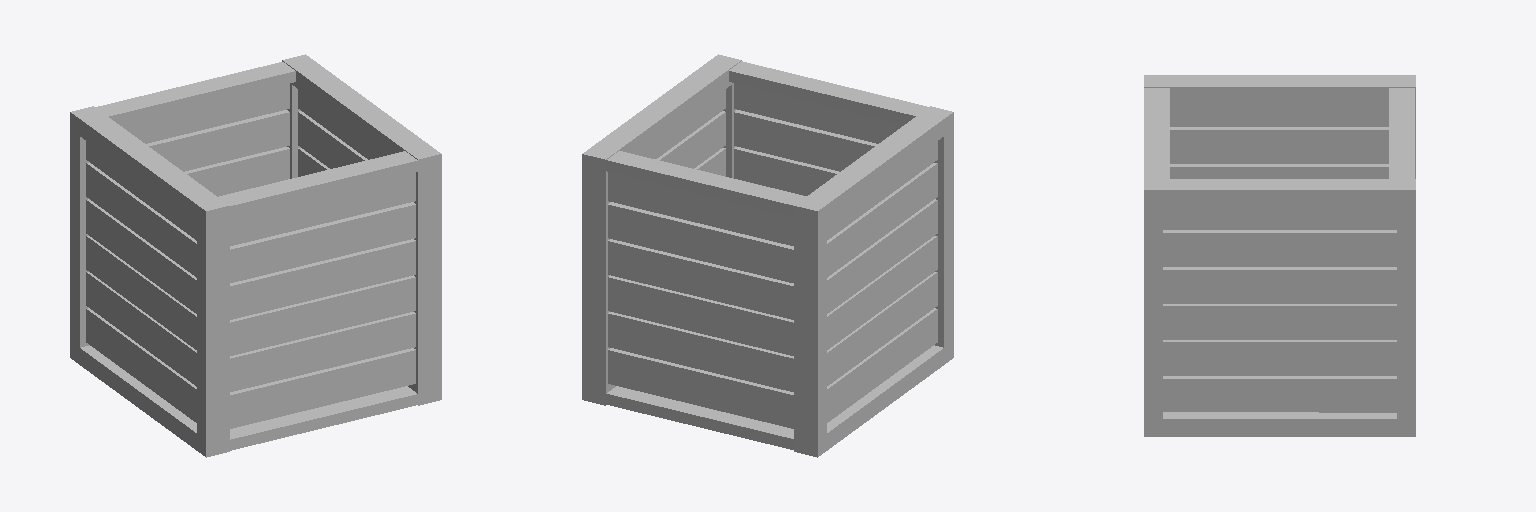
File: crate.obj
3 views of the same model, side by side, from view 1: azimuth 30°, elevation 25°; view 2: azimuth 150°, elevation 25°; view 3: azimuth 270°, elevation 25° (orthographic).
Parts seen in each view (by area): view 1: bedx+; view 2: bedx+; view 3: bedx+.
Boxes of the visible parts, x1=… form: bedx+: x1=70, y1=54, x2=441, y2=457; bedx+: x1=582, y1=54, x2=953, y2=457; bedx+: x1=1144, y1=75, x2=1415, y2=436.
Bounding box in the file's own units: 1 × 0.9988 × 1.